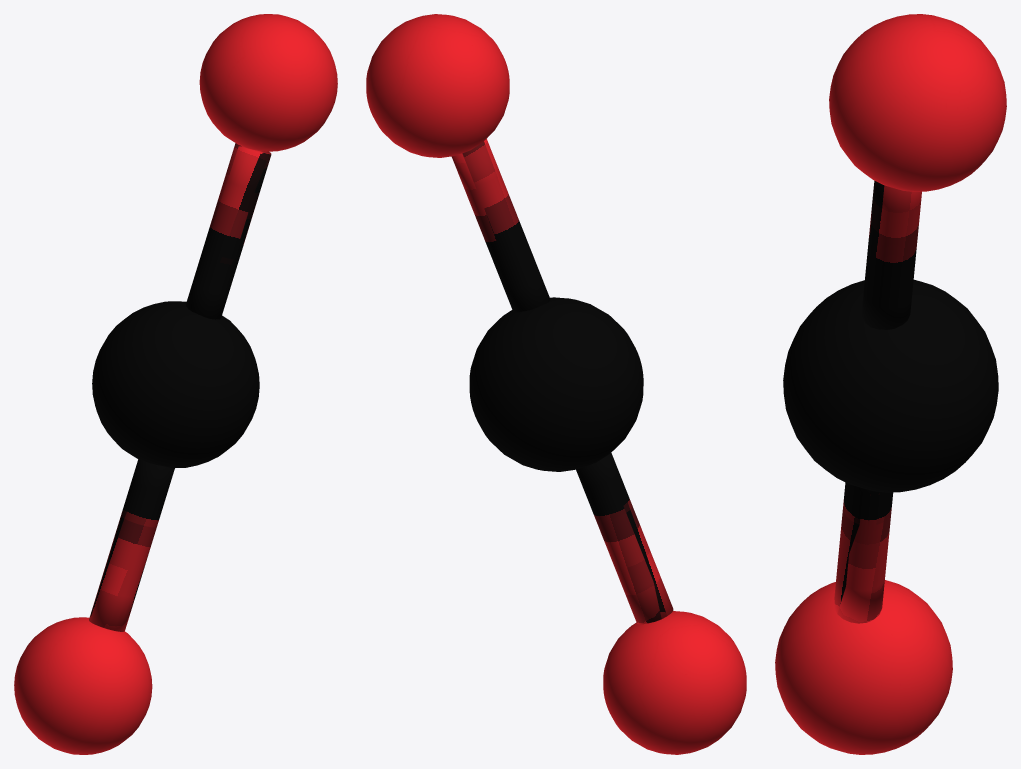
3 views of the same model, side by side, from view 1: azimuth 30°, elevation 25°; view 2: azimuth 150°, elevation 25°; view 3: azimuth 270°, elevation 25° (orthographic). The views are drawn at different scales.
Visible parts, largest first — view 1: node_id7, node_id23, node_id15, node_id19, node_id11; view 2: node_id7, node_id23, node_id15, node_id19, node_id11; view 3: node_id7, node_id23, node_id15, node_id19, node_id11.
Boxes of the visible parts, x1,y1,x2,y2 form: node_id7: [92, 301, 259, 467]; node_id23: [199, 14, 337, 151]; node_id15: [14, 617, 152, 754]; node_id19: [186, 143, 271, 319]; node_id11: [89, 459, 174, 631]; node_id7: [469, 297, 643, 471]; node_id23: [366, 14, 509, 157]; node_id15: [603, 611, 746, 754]; node_id19: [451, 139, 550, 312]; node_id11: [576, 453, 673, 624]; node_id7: [783, 279, 998, 492]; node_id23: [829, 14, 1006, 191]; node_id15: [775, 580, 952, 754]; node_id19: [862, 180, 921, 329]; node_id11: [834, 482, 893, 623].
Size of the model in its own units: 0.261 by 0.5072 by 0.1247.
Materials: 5 (5 with a texture image).
